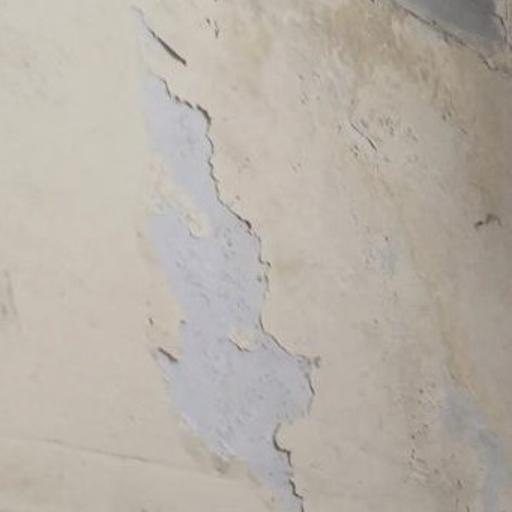peeling: (110, 2, 334, 512)
